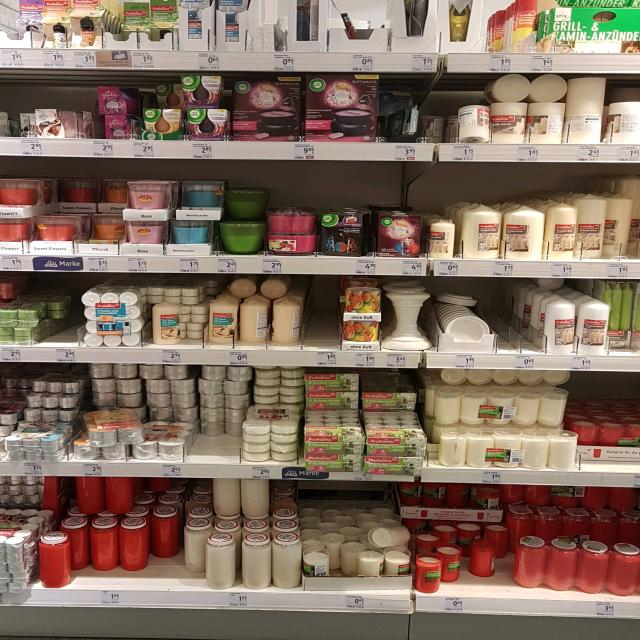empty: (491, 275, 540, 352), (304, 275, 337, 351)
